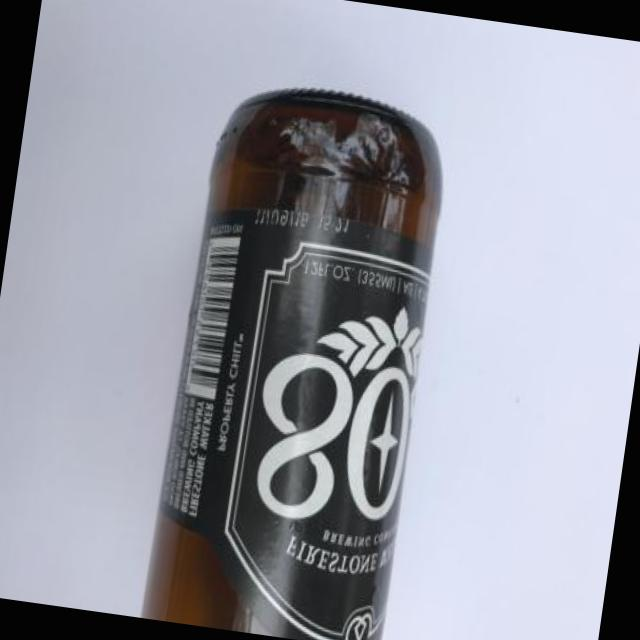chai_thuy_tinh: (138, 89, 442, 640)
